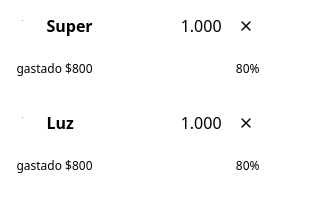
it: BudgetList › brings the row back and shows the message when the remove fails
Click the button named "Quitar Super": (246, 26) x1=232 y1=12 x2=260 y2=40
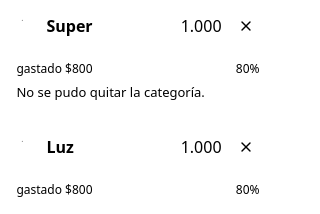
Expected: the field named "Monto de Super" is shown, x1=103 y1=12 x2=222 y2=40
Expected: the message reads "No se pudo quitar la categoría.", x1=16 y1=83 x2=205 y2=101
